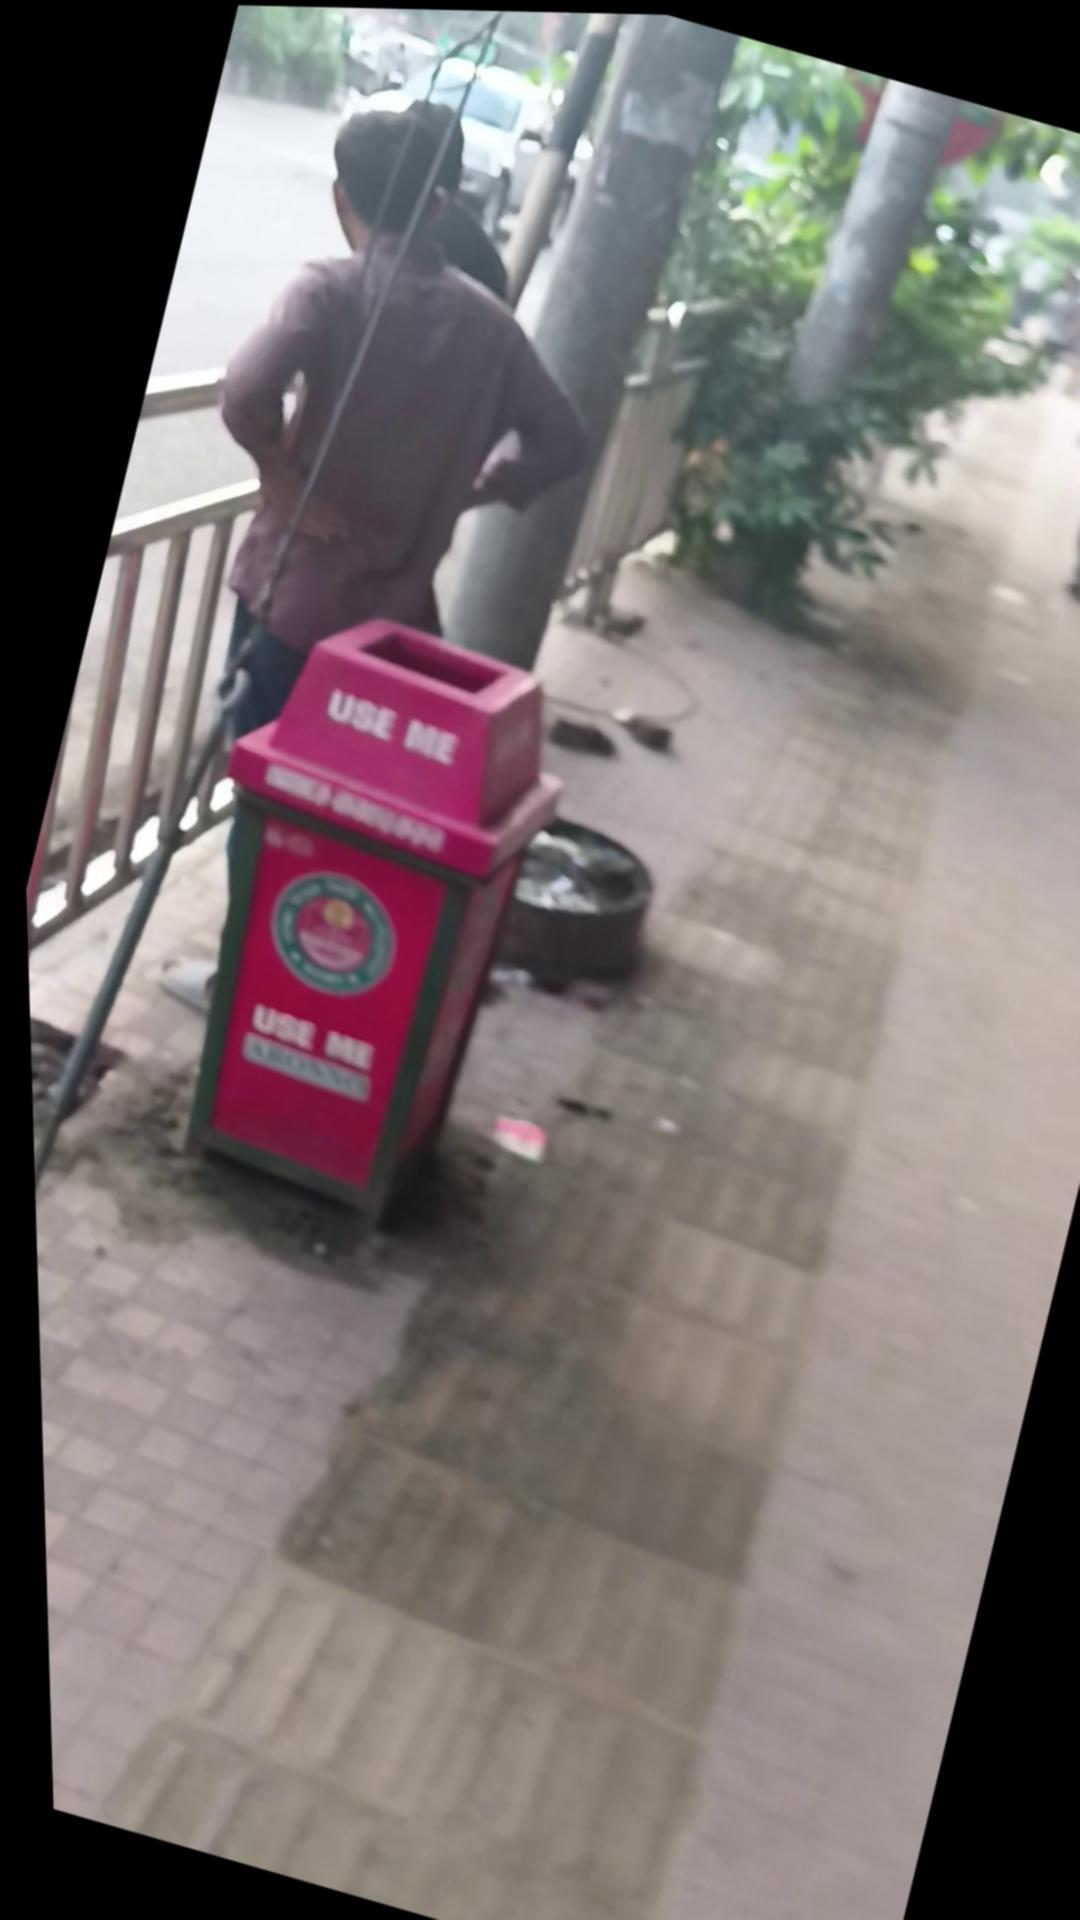Car: (331, 25, 609, 258)
Garbage: (105, 576, 603, 1265)
Muddy road: (49, 53, 680, 1085), (1029, 277, 1080, 617)
Obstacle: (415, 7, 754, 688), (480, 8, 636, 323)
Potted-plant: (3, 131, 1080, 1920)
